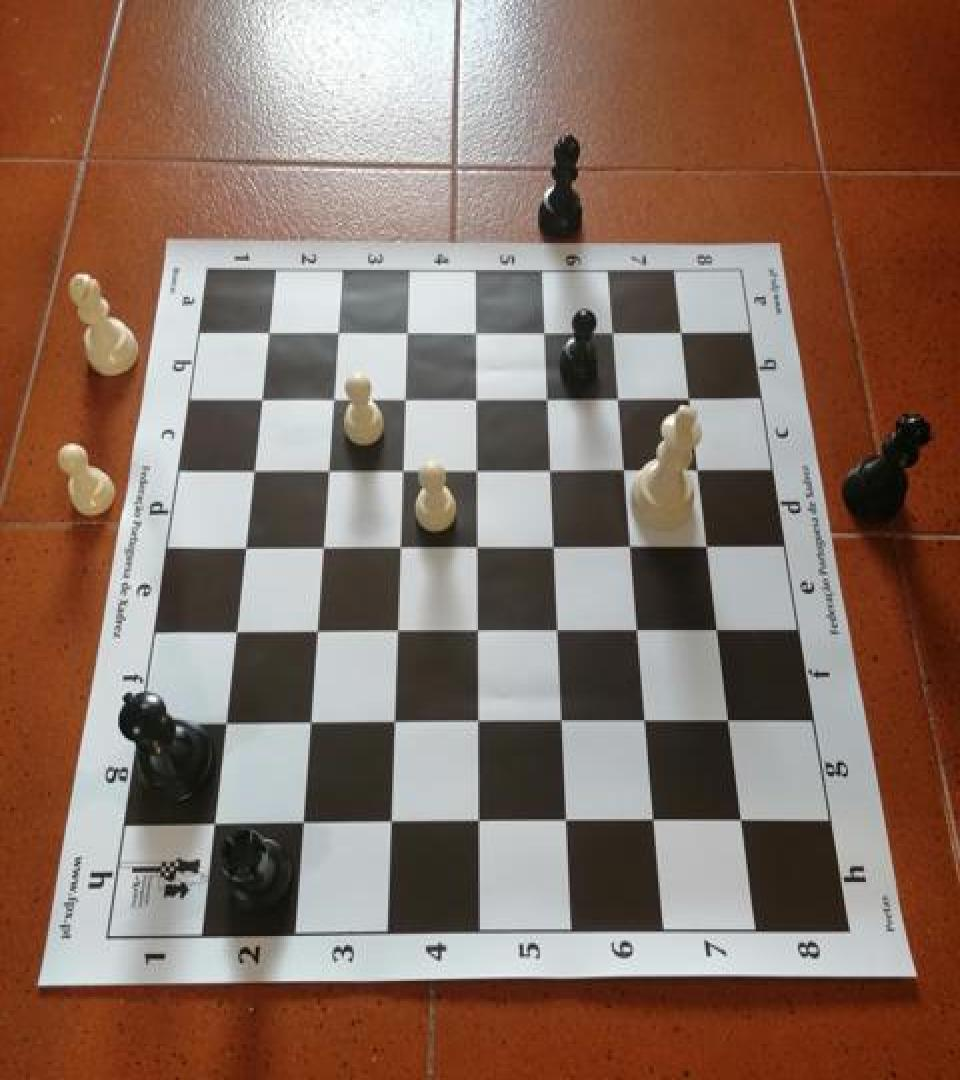xcorner: (667, 312, 697, 346), (598, 312, 628, 346), (530, 312, 560, 346), (462, 312, 492, 346), (393, 312, 423, 346), (675, 379, 705, 413), (604, 379, 634, 413), (533, 378, 563, 412), (462, 378, 492, 412), (391, 378, 421, 412), (319, 378, 349, 412), (248, 378, 278, 412), (684, 450, 714, 484), (610, 450, 640, 484), (536, 450, 566, 484), (462, 450, 492, 484), (388, 449, 418, 483), (314, 449, 344, 483), (239, 449, 269, 483), (694, 526, 724, 560), (617, 526, 647, 560), (540, 526, 570, 560), (463, 526, 493, 560), (386, 526, 416, 560), (308, 526, 338, 560), (231, 526, 261, 560), (704, 610, 734, 644), (624, 610, 654, 644), (544, 610, 574, 644), (463, 611, 493, 645), (383, 611, 413, 645), (302, 611, 332, 645), (221, 611, 251, 645), (716, 701, 746, 735), (632, 701, 662, 735), (548, 702, 578, 736), (464, 702, 494, 736), (380, 702, 410, 736), (295, 702, 325, 736), (210, 702, 240, 736), (728, 801, 758, 835), (641, 801, 671, 835), (553, 802, 583, 836), (464, 802, 494, 836), (376, 802, 406, 836), (288, 803, 318, 837), (199, 803, 229, 837), (324, 312, 354, 345), (255, 312, 285, 345)
